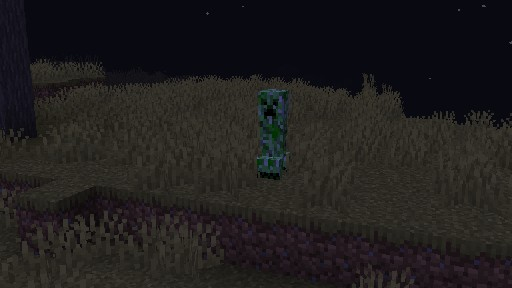creeper: (255, 88, 289, 179)
